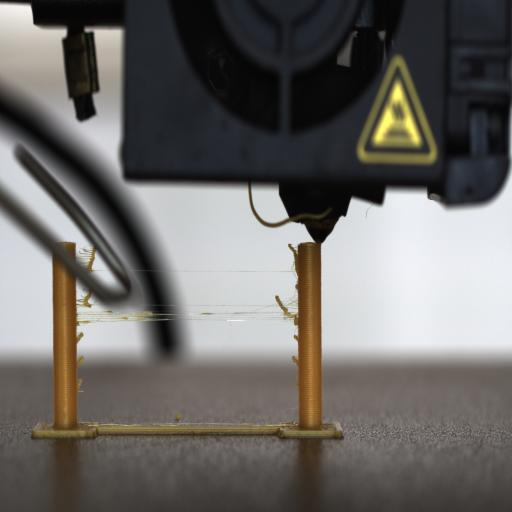stringing: (76, 290, 298, 326), (76, 253, 100, 398), (272, 290, 301, 342), (80, 310, 170, 324), (279, 239, 301, 291), (120, 268, 278, 274), (76, 245, 98, 274), (76, 290, 96, 308), (292, 354, 299, 399), (288, 242, 298, 266), (78, 245, 95, 255), (281, 405, 297, 415), (76, 331, 84, 344), (77, 354, 84, 366), (76, 378, 82, 392), (275, 294, 283, 304)
